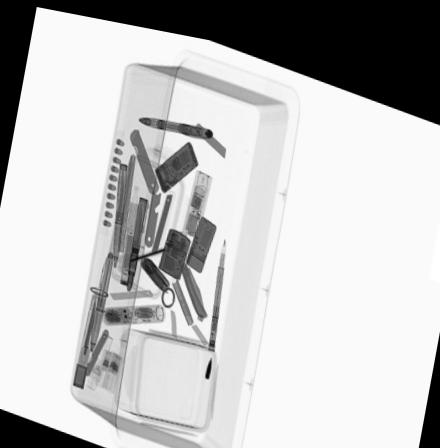Knife: (127, 121, 161, 190), (112, 152, 128, 265), (180, 252, 207, 312), (84, 324, 108, 376), (151, 190, 172, 248), (171, 272, 193, 318), (81, 294, 96, 354), (110, 279, 153, 293)
